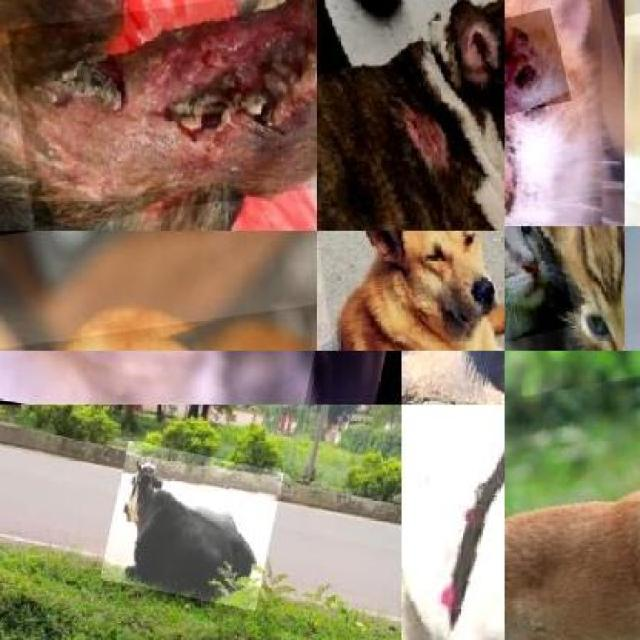cat: (504, 0, 624, 226), (528, 226, 624, 351), (505, 226, 577, 351)
cow: (99, 438, 284, 611), (401, 404, 504, 640)
dog: (317, 0, 505, 231), (504, 351, 640, 640), (317, 231, 505, 351)
injured: (6, 0, 317, 226), (504, 8, 570, 115), (427, 106, 473, 179)
